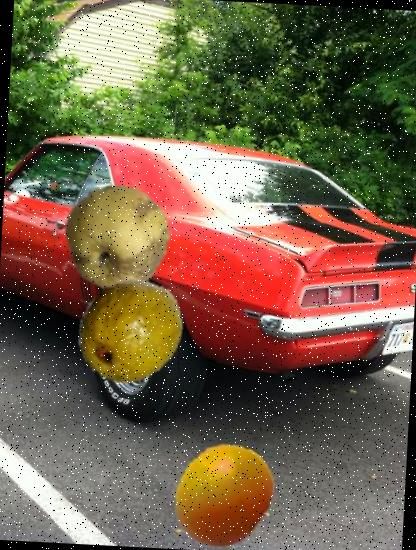Apple: (61, 180, 177, 296)
Cherry: (166, 438, 280, 550)
Guava: (71, 270, 190, 389)
